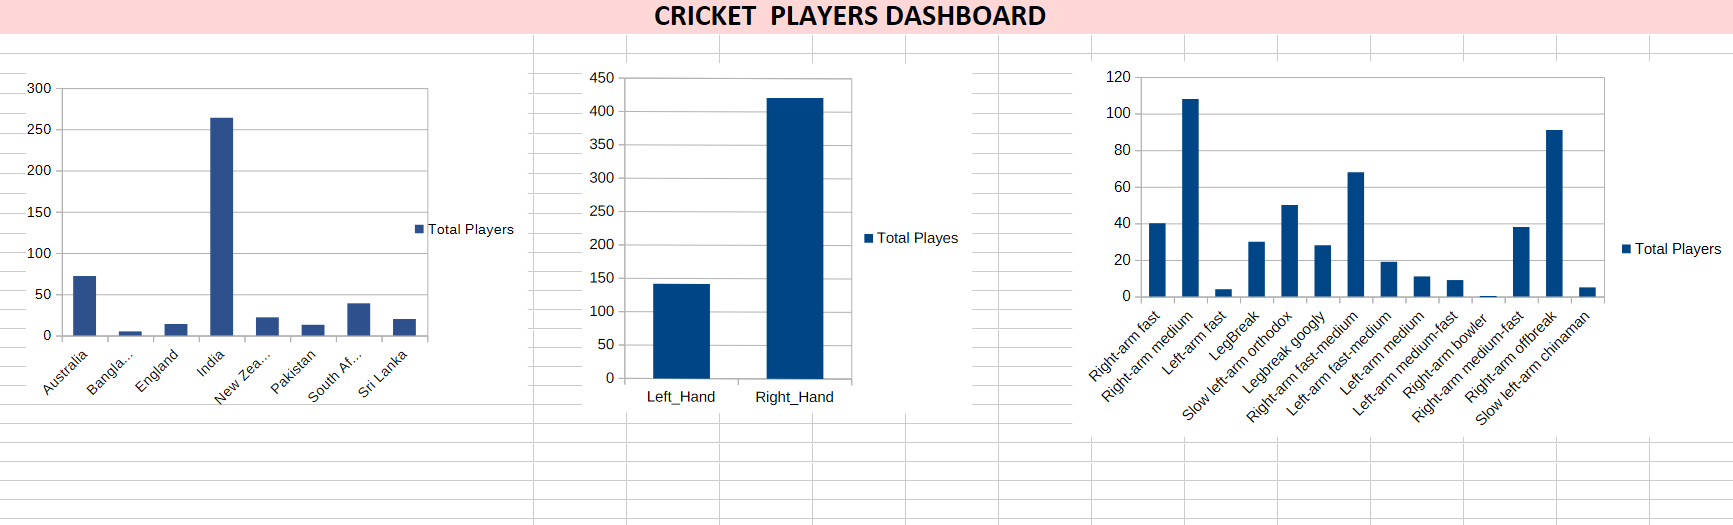

The page's visual inventory and layout, read from the dashboard file:
{"tool":"powerbi","page":{"name":"Page 1","canvas":[1280,720],"ordinal":0},"visuals":[{"type":"columnChart","fields":{"Category":["Sheet1.Country"],"Y":["CountNonNull(Sheet1.Player_Name)"]},"box":[12.3,15.1,736.9,333.4],"z":1},{"type":"columnChart","fields":{"Y":["CountNonNull(Sheet1.Player_Name)"],"Category":["Sheet1.Batting_Hand"]},"box":[12,358,737,333],"z":2},{"type":"columnChart","fields":{"Category":["Sheet1.Bowling_Skill"],"Y":["CountNonNull(Sheet1.Player_Name)"]},"box":[759,15,521,333],"z":3}]}

Visuals, with their boxes on the page's 1280x720 design canvas (x1, y1, x2, y2). These are canvas units, not pixel positions in the 1733x525 screenshot, which may show the page scaled, cropped or inside an application window:
columnChart - Sheet1.Country x CountNonNull(Sheet1.Player_Name): {"left": 12, "top": 15, "right": 749, "bottom": 348}
columnChart - CountNonNull(Sheet1.Player_Name) x Sheet1.Batting_Hand: {"left": 12, "top": 358, "right": 749, "bottom": 691}
columnChart - Sheet1.Bowling_Skill x CountNonNull(Sheet1.Player_Name): {"left": 759, "top": 15, "right": 1280, "bottom": 348}
